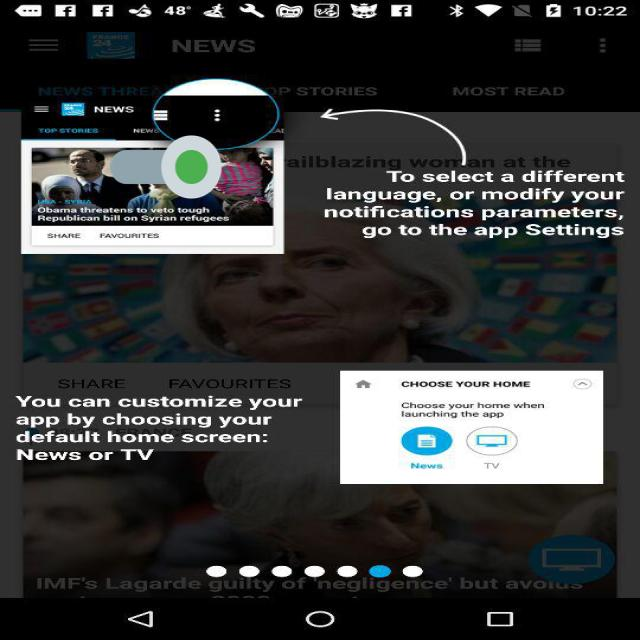social proof: (110, 109, 222, 225)
